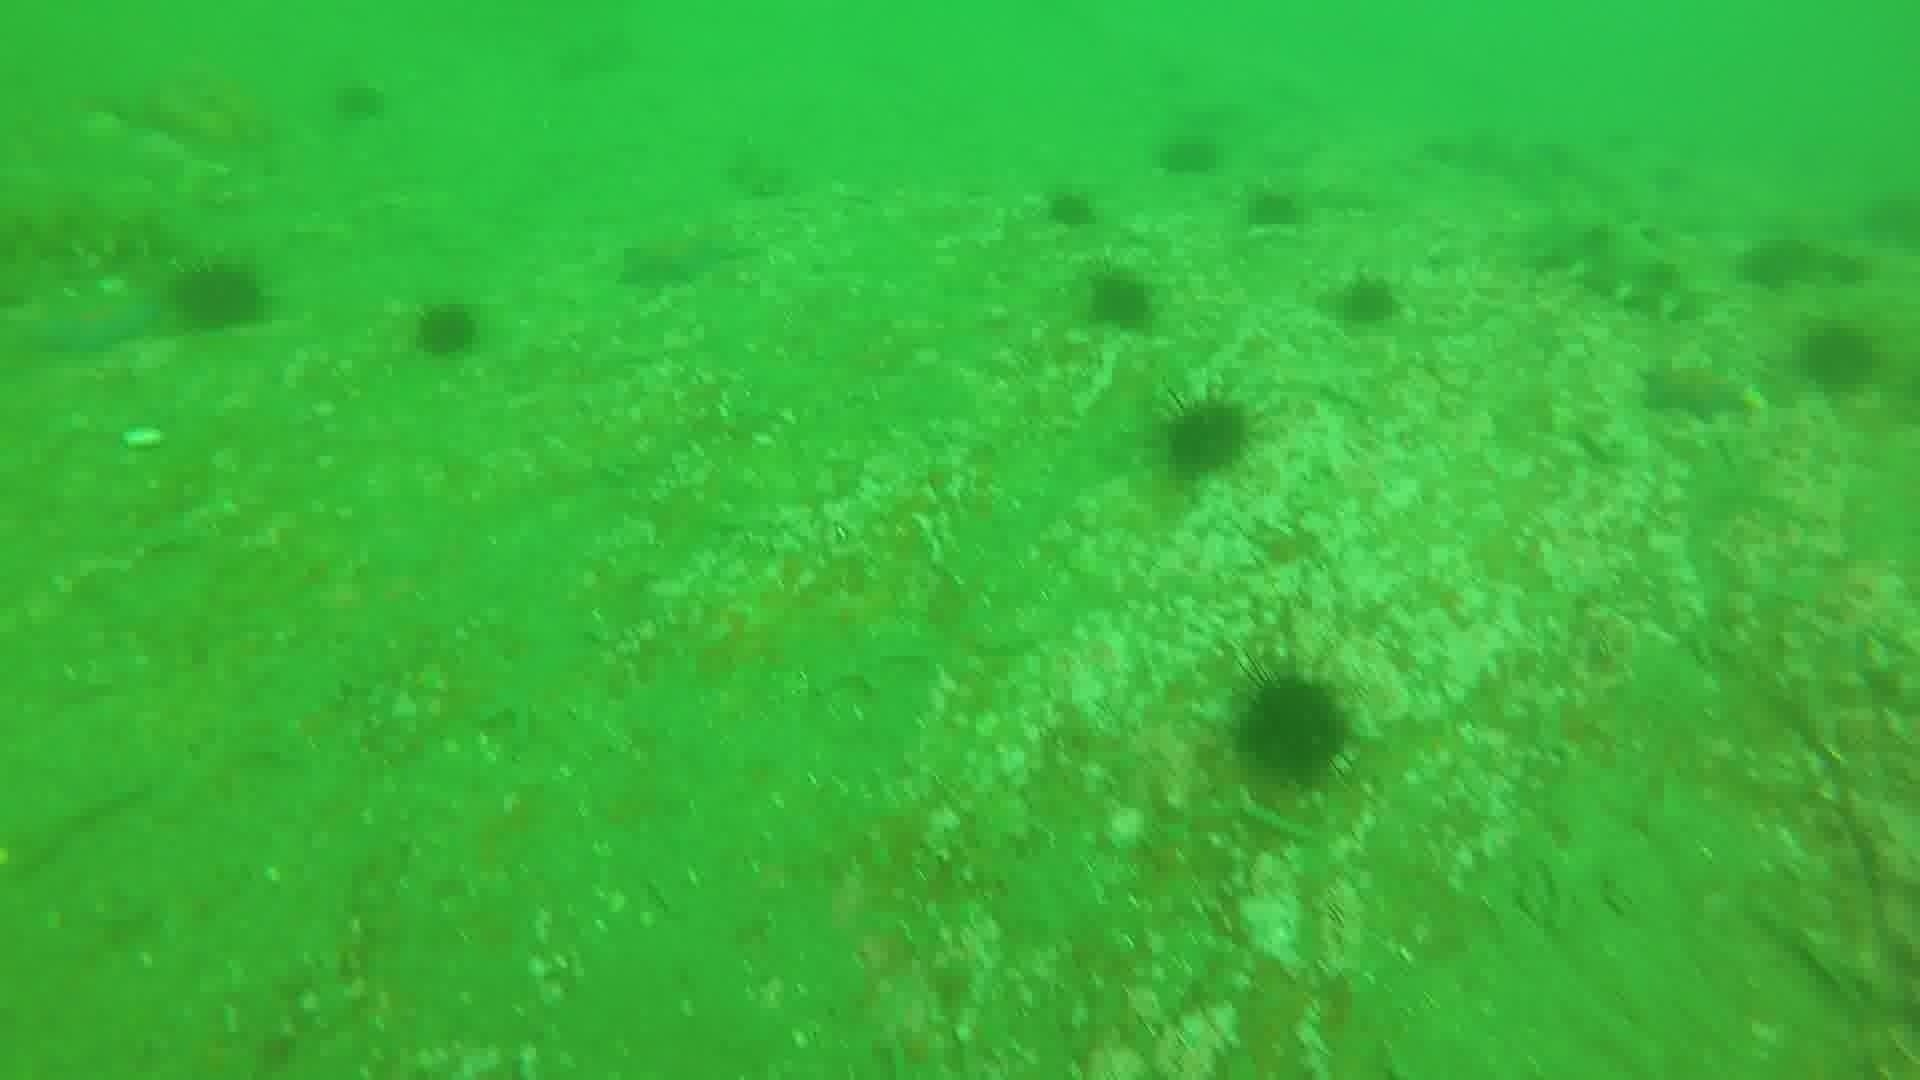echinus: (1229, 665, 1357, 793), (1153, 392, 1258, 487), (166, 256, 273, 338), (1793, 319, 1884, 400), (1081, 266, 1160, 338), (1735, 232, 1824, 295), (407, 297, 484, 363), (1328, 270, 1406, 334), (1240, 181, 1309, 237), (1153, 127, 1225, 181), (327, 75, 392, 128), (1040, 182, 1101, 233)
holothurian: (1520, 204, 1716, 326), (3, 187, 189, 273), (719, 138, 798, 203)
starfish: (16, 282, 161, 363), (611, 215, 746, 295), (1634, 357, 1763, 427)
